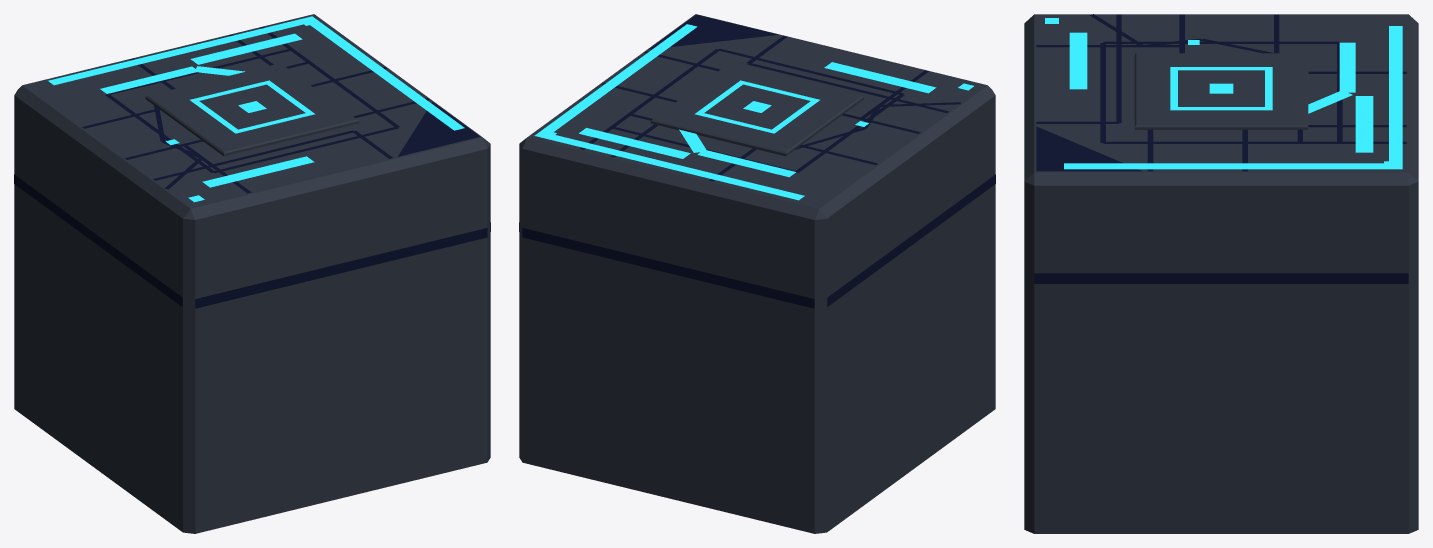
Rendered from floor_tiles_slate.glb.
3 renders of one model, left to right at view 1: azimuth 30°, elevation 25°; view 2: azimuth 150°, elevation 25°; view 3: azimuth 270°, elevation 25°, orthographic. The views are drawn at different scales.
Parts seen in each view (by area): view 1: Tile_Chevron_Slate, Tile_Panel_Slate, Tile_Chevron_Navy, Tile_Corner_Cyan, Tile_Worn_Navy, Tile_Panel_Navy, Tile_Strips_Cyan, Tile_Panel_Cyan, Tile_Edge_Cyan, Tile_Corner_Navy, Tile_Chevron_Cyan; view 2: Tile_Chevron_Slate, Tile_Panel_Slate, Tile_Chevron_Navy, Tile_Corner_Cyan, Tile_Worn_Navy, Tile_Panel_Navy, Tile_Strips_Cyan, Tile_Panel_Cyan, Tile_Corner_Navy, Tile_Chevron_Cyan, Tile_Edge_Cyan; view 3: Tile_Chevron_Slate, Tile_Panel_Slate, Tile_Chevron_Navy, Tile_Corner_Cyan, Tile_Worn_Navy, Tile_Panel_Navy, Tile_Strips_Cyan, Tile_Panel_Cyan, Tile_Corner_Navy, Tile_Chevron_Cyan, Tile_Edge_Cyan, Tile_Strips_Navy.
Part boxes in pixels (box(x1,y1,x2,y2)): Tile_Chevron_Slate: box(14, 14, 490, 533); Tile_Panel_Slate: box(145, 63, 359, 156); Tile_Chevron_Navy: box(14, 34, 490, 308); Tile_Corner_Cyan: box(48, 16, 464, 130); Tile_Worn_Navy: box(154, 27, 480, 189); Tile_Panel_Navy: box(105, 48, 399, 173); Tile_Strips_Cyan: box(188, 19, 315, 202); Tile_Panel_Cyan: box(190, 80, 315, 133); Tile_Edge_Cyan: box(49, 21, 299, 83); Tile_Corner_Navy: box(130, 58, 392, 180); Tile_Chevron_Cyan: box(100, 66, 244, 93); Tile_Chevron_Slate: box(519, 14, 995, 533); Tile_Panel_Slate: box(650, 63, 864, 156); Tile_Chevron_Navy: box(519, 70, 995, 308); Tile_Corner_Cyan: box(534, 24, 804, 200); Tile_Worn_Navy: box(580, 14, 960, 149); Tile_Panel_Navy: box(610, 48, 904, 173); Tile_Strips_Cyan: box(547, 62, 973, 158); Tile_Panel_Cyan: box(694, 80, 819, 133); Tile_Corner_Navy: box(601, 36, 948, 181); Tile_Chevron_Cyan: box(679, 129, 795, 177); Tile_Edge_Cyan: box(553, 139, 802, 199); Tile_Chevron_Slate: box(1024, 14, 1418, 533); Tile_Panel_Slate: box(1134, 53, 1308, 129); Tile_Chevron_Navy: box(1034, 14, 1408, 283); Tile_Corner_Cyan: box(1064, 26, 1402, 169); Tile_Worn_Navy: box(1036, 14, 1406, 171); Tile_Panel_Navy: box(1100, 41, 1342, 143); Tile_Strips_Cyan: box(1045, 18, 1396, 166); Tile_Panel_Cyan: box(1170, 67, 1272, 110); Tile_Corner_Navy: box(1036, 14, 1406, 171); Tile_Chevron_Cyan: box(1308, 42, 1355, 113); Tile_Edge_Cyan: box(1389, 27, 1402, 159); Tile_Strips_Navy: box(1147, 14, 1279, 171).
Bounding box in the file's own units: 1 × 1.01 × 1.
